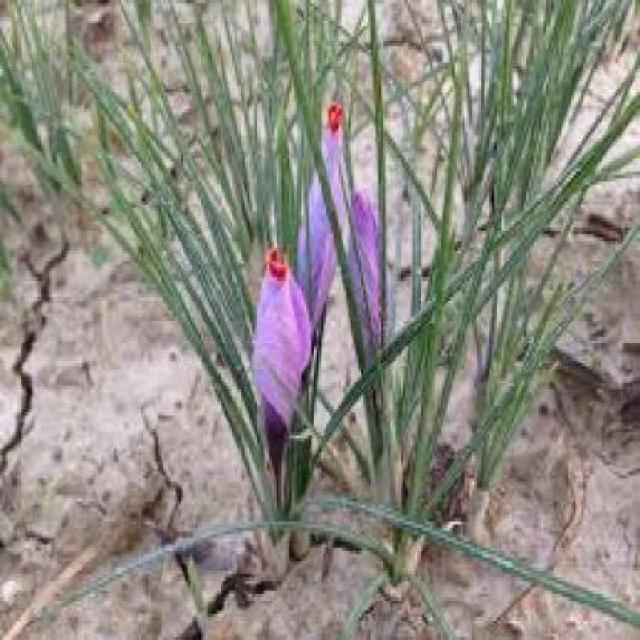saffron closed: (252, 245, 309, 460), (295, 179, 336, 329), (348, 190, 382, 362), (322, 102, 344, 218)
